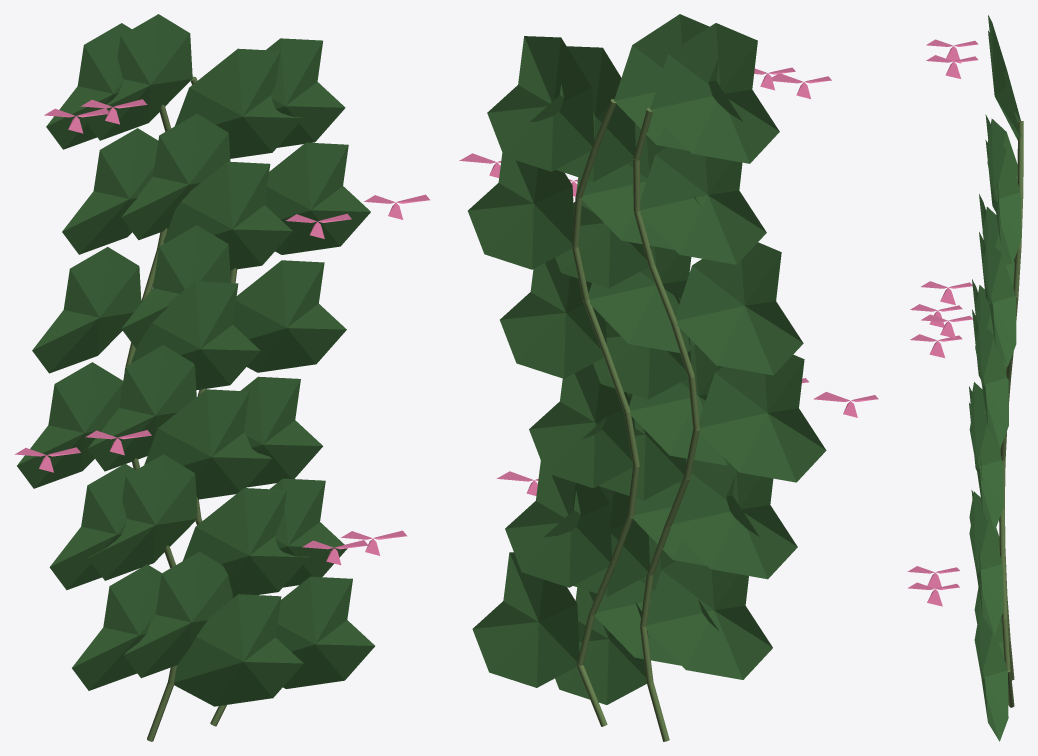
Rendered from antigonon-leptopus.glb.
3 renders of one model, left to right at view 1: azimuth 30°, elevation 25°; view 2: azimuth 150°, elevation 25°; view 3: azimuth 270°, elevation 25°, orthographic. The views are drawn at different scales.
Parts seen in each view (by area): view 1: Climber species leaves, Species flowers / bracts, Climber species stems; view 2: Climber species leaves, Climber species stems, Species flowers / bracts; view 3: Climber species leaves, Species flowers / bracts, Climber species stems.
Boxes of the visible parts, x1,y1,x2,y2 form: Climber species leaves: (17, 14, 374, 706); Species flowers / bracts: (15, 99, 429, 565); Climber species stems: (124, 76, 237, 741); Climber species leaves: (468, 14, 826, 704); Climber species stems: (572, 99, 699, 741); Species flowers / bracts: (459, 67, 878, 495); Climber species leaves: (969, 15, 1021, 741); Species flowers / bracts: (907, 39, 978, 606); Climber species stems: (999, 121, 1023, 707).
Size of the model in its own units: 0.5174 by 0.8896 by 0.1467.
